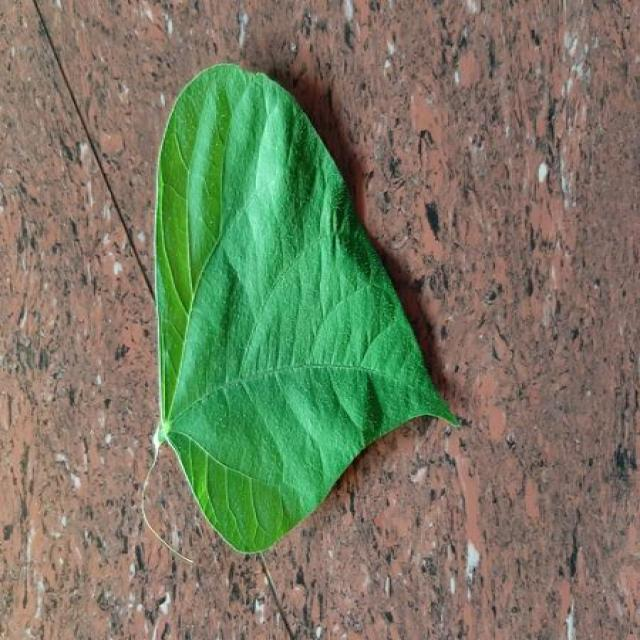beans: (155, 64, 457, 552)
